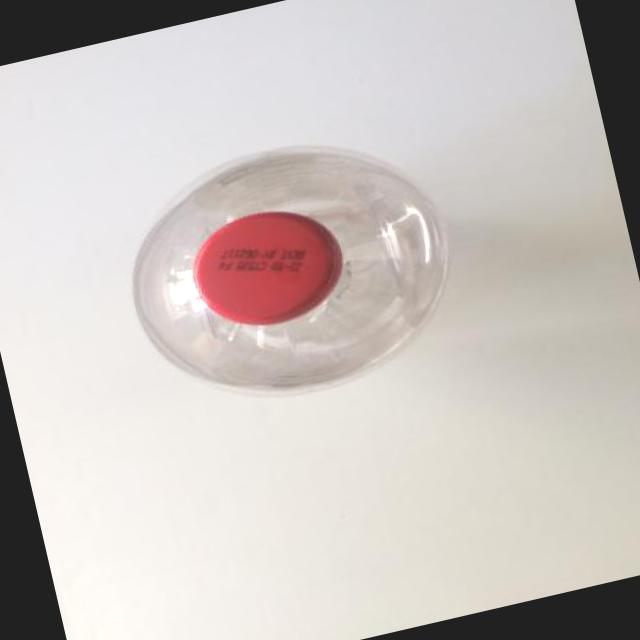plastic: (134, 148, 446, 393)
